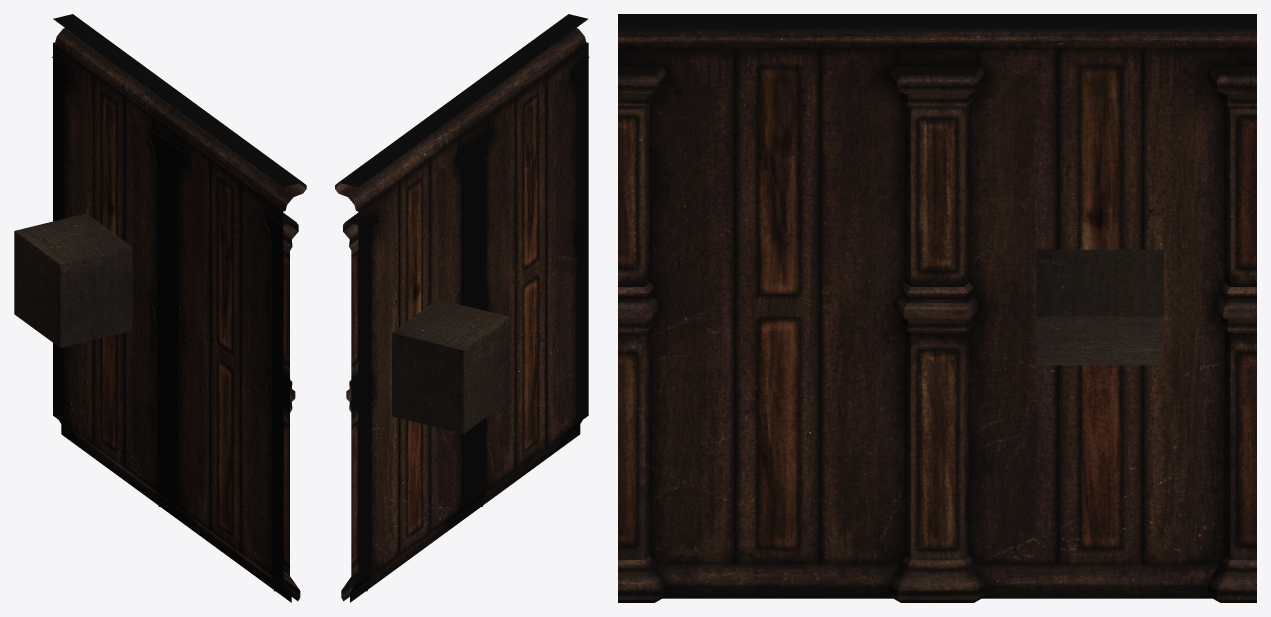
Rendered from default02_secret.dae.
The picture shows the model from 3 angles, left to right: view 1: azimuth 30°, elevation 25°; view 2: azimuth 150°, elevation 25°; view 3: azimuth 270°, elevation 25°; orthographic projection. The views are drawn at different scales.
Visible parts, largest first — view 1: Cube_002; view 2: Cube_002; view 3: Cube_002.
Part boxes in pixels (x1=…): Cube_002: x1=14, y1=14, x2=306, y2=602; Cube_002: x1=335, y1=14, x2=589, y2=602; Cube_002: x1=618, y1=14, x2=1256, y2=602.
Bounding box in the file's own units: 0.955 × 4 × 4.
Materials: 1 (1 with a texture image).
